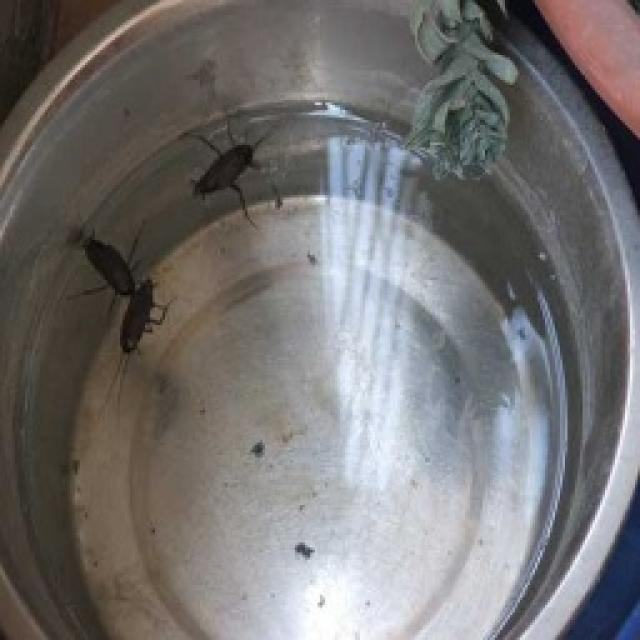cockroach: (187, 130, 276, 202), (114, 262, 179, 354), (80, 225, 135, 318)
